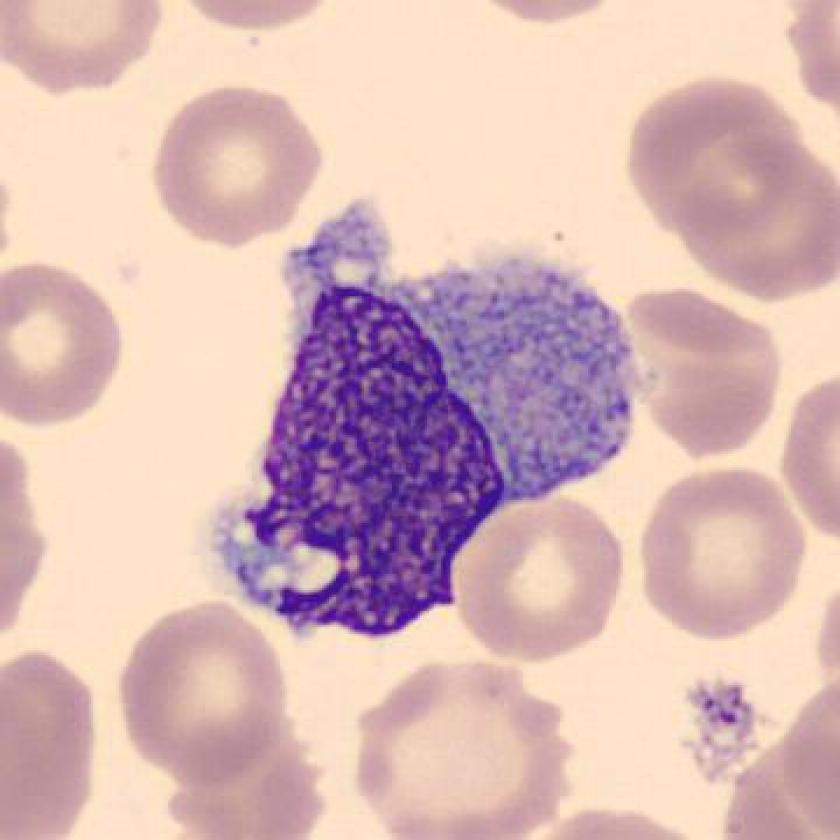monocyte: (190, 184, 668, 674)
